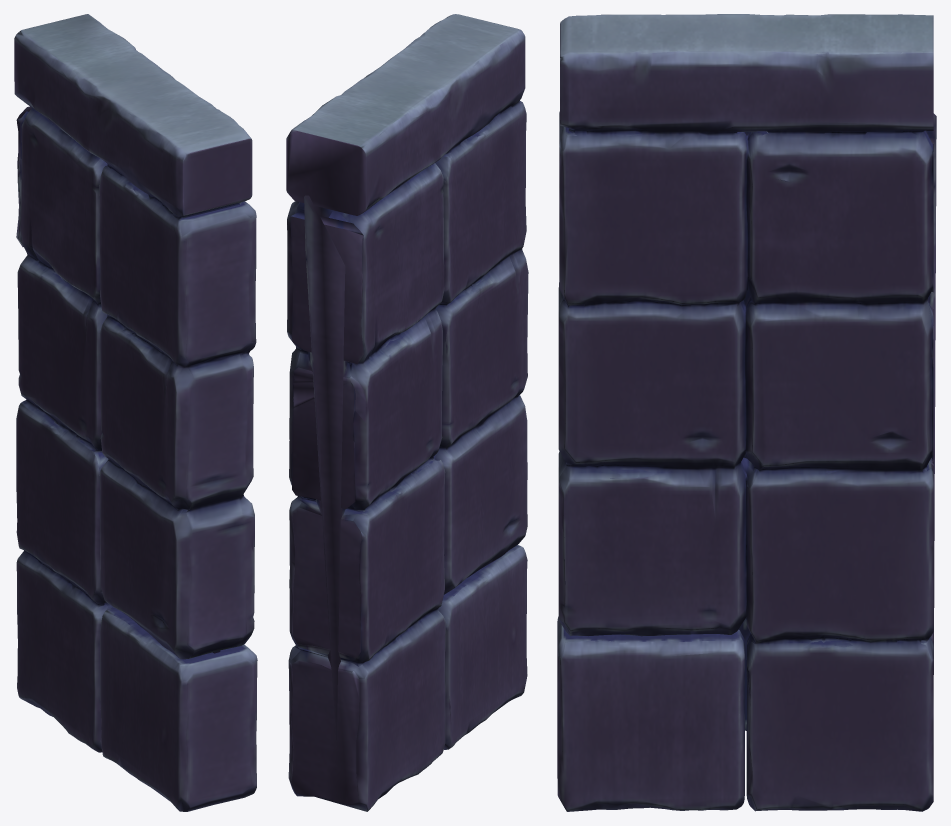
Rendered from wall1.glb.
3 renders of one model, left to right at view 1: azimuth 30°, elevation 25°; view 2: azimuth 150°, elevation 25°; view 3: azimuth 270°, elevation 25°, orthographic. The views are drawn at different scales.
Visible parts, largest first — view 1: Wall_01; view 2: Wall_01; view 3: Wall_01.
Boxes of the visible parts, x1,y1,x2,y2 form: Wall_01: (14,14,257,811); Wall_01: (286,14,528,811); Wall_01: (557,14,936,811).
Bounding box in the file's own units: 0.0829 × 0.6376 × 0.2886.
1 material, 1 textured.
